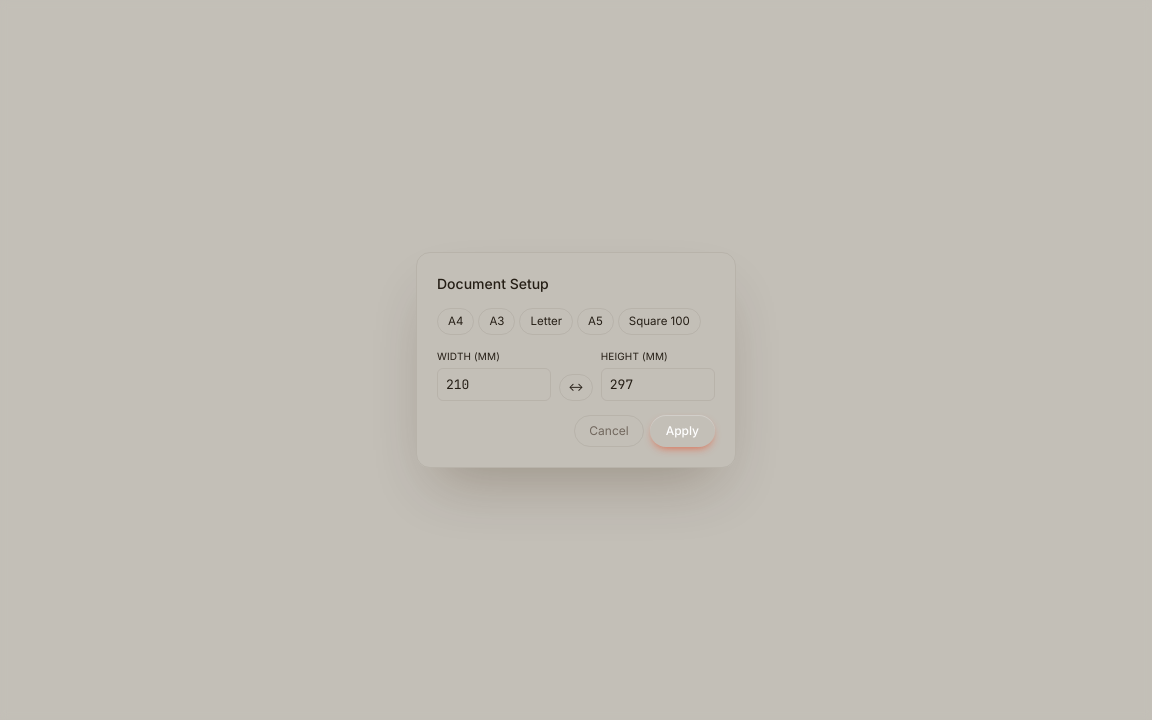
Test: ArtboardDialog › swaps width and height on orientation toggle
Click the button titled "Swap orientation" at (576, 388), box [559,374,593,401]
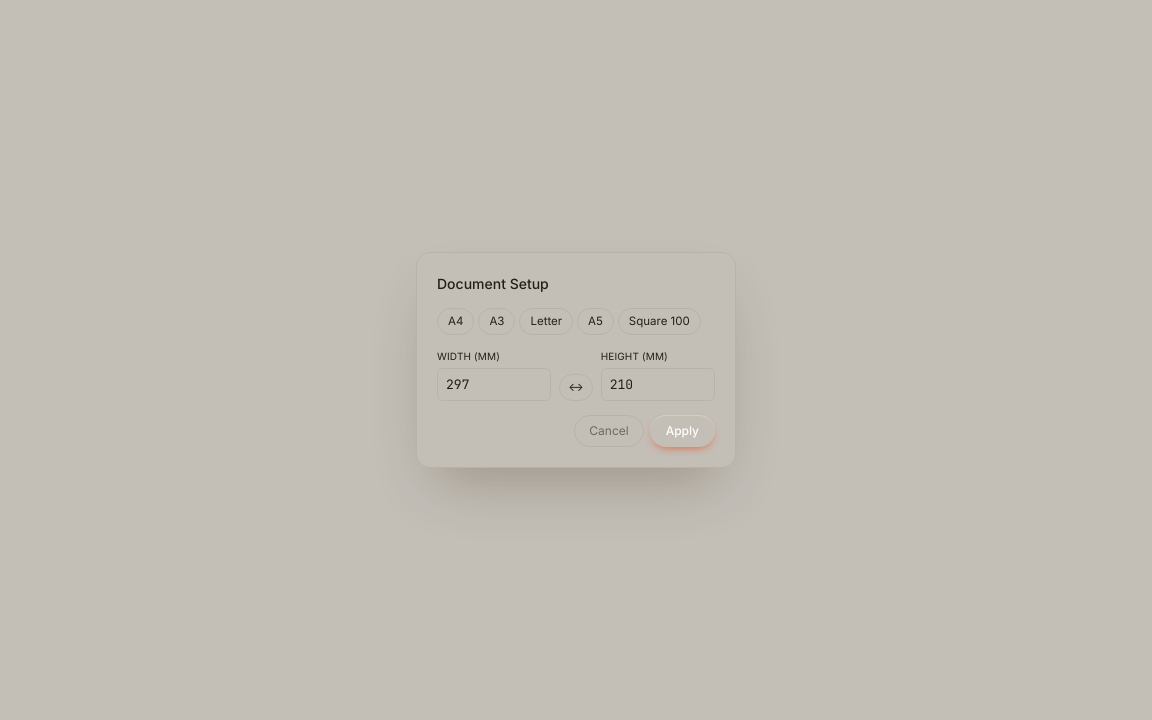
Expected: the number field with test id "artboard-width" holds "297", [437,368,551,401]
Expected: the number field with test id "artboard-height" holds "210", [601,368,715,401]
